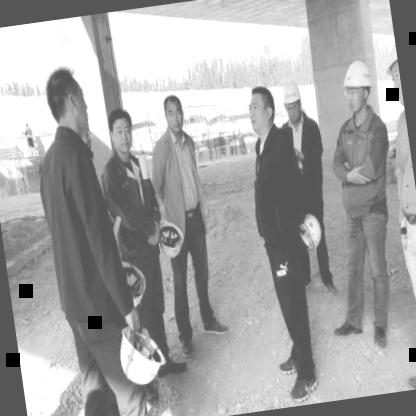head: (38, 60, 94, 146), (241, 80, 280, 139), (104, 103, 139, 161), (159, 88, 189, 138)
helmet: (334, 54, 378, 120), (380, 32, 404, 110), (278, 74, 308, 128)
